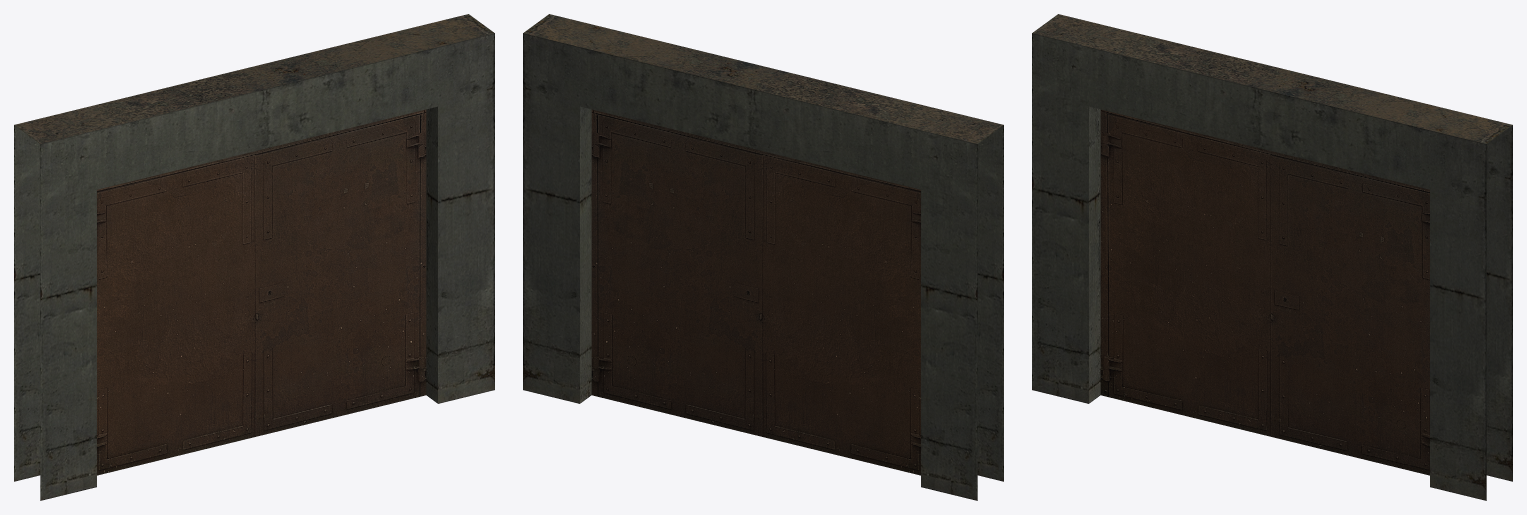
The model's file is garage_door_frame_rg_2.dae.
3 renders of one model, left to right at view 1: azimuth 30°, elevation 25°; view 2: azimuth 150°, elevation 25°; view 3: azimuth 330°, elevation 25°, orthographic.
Parts seen in each view (by area): view 1: garage_door_hm_3, garage_door_frame_rg_2; view 2: garage_door_hm_3, garage_door_frame_rg_2; view 3: garage_door_hm_3, garage_door_frame_rg_2.
Boxes of the visible parts, <box> form: garage_door_hm_3: <box>97,109,426,475</box>; garage_door_frame_rg_2: <box>14,14,494,500</box>; garage_door_hm_3: <box>591,109,920,475</box>; garage_door_frame_rg_2: <box>523,14,1003,500</box>; garage_door_hm_3: <box>1100,109,1429,475</box>; garage_door_frame_rg_2: <box>1032,14,1512,500</box>.
Size of the model in its own units: 4 by 0.4 by 3.
Materials: 3 (3 with a texture image).
